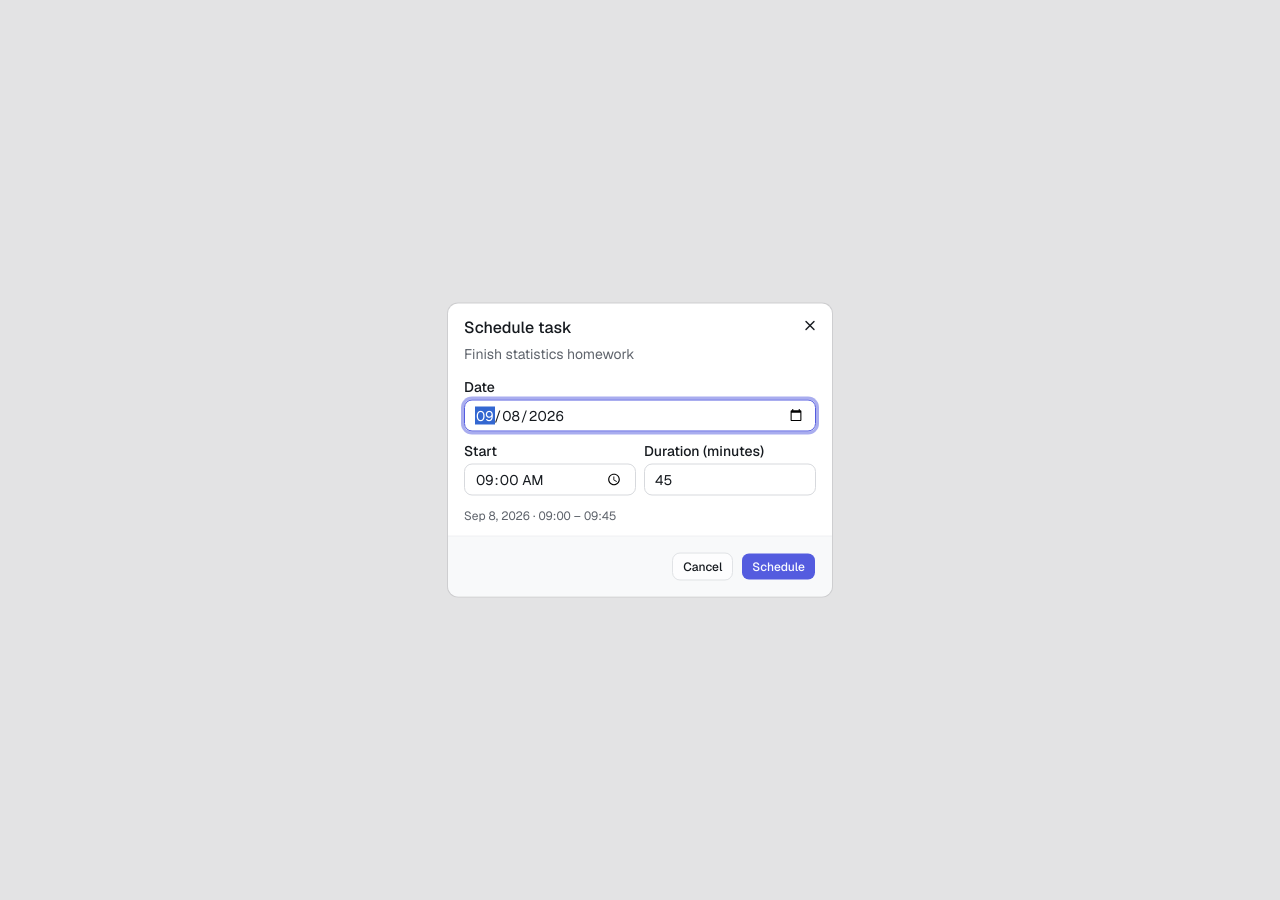
Scenario: ScheduleTaskDialog › refuses a block that would run past midnight, and says so
Step 1. Replace the text in the time field labelled "Start" with "23:30" → (550, 480), box [464,464,636,496]
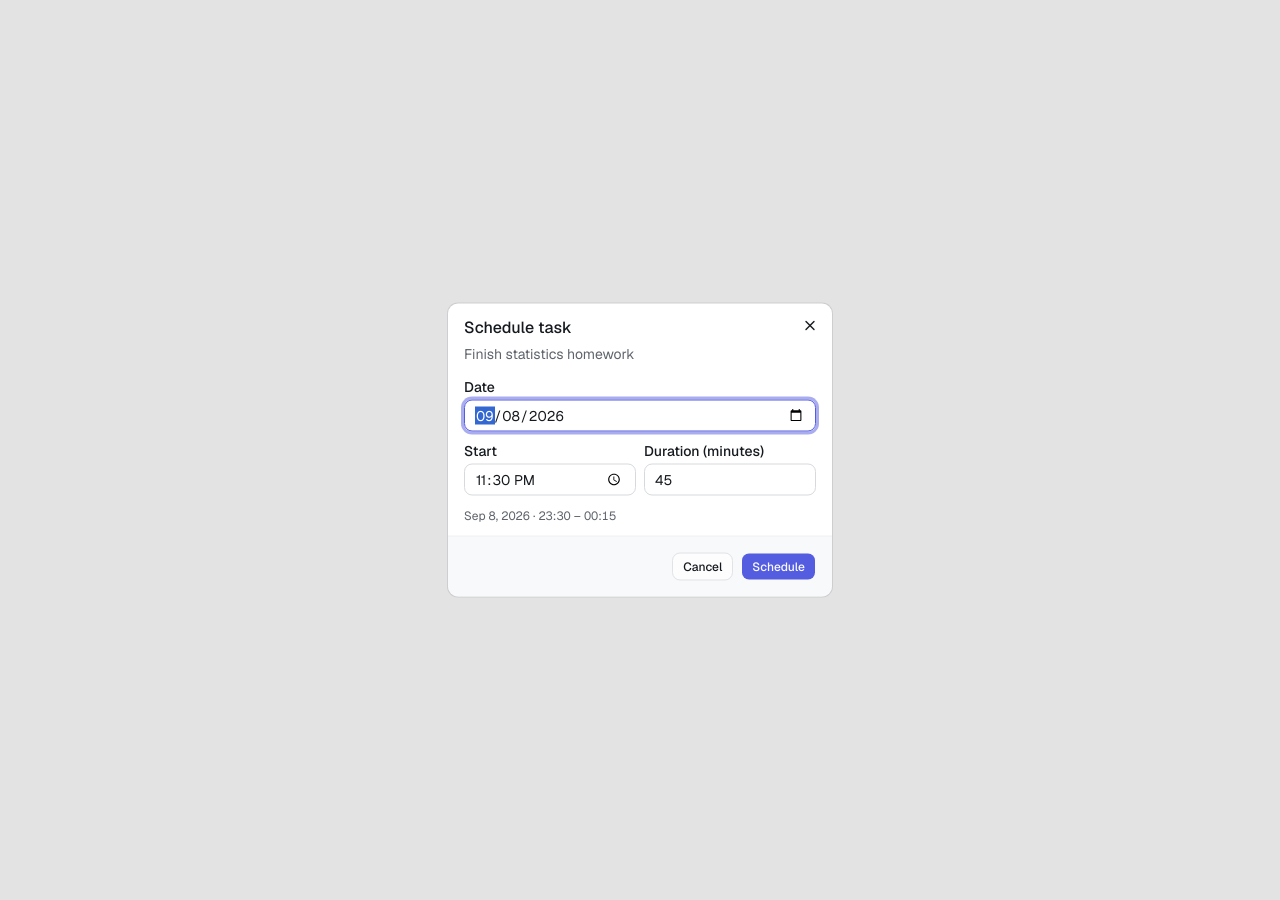
Step 2. Click the button "Schedule" → click(779, 566), box [741,552,816,580]
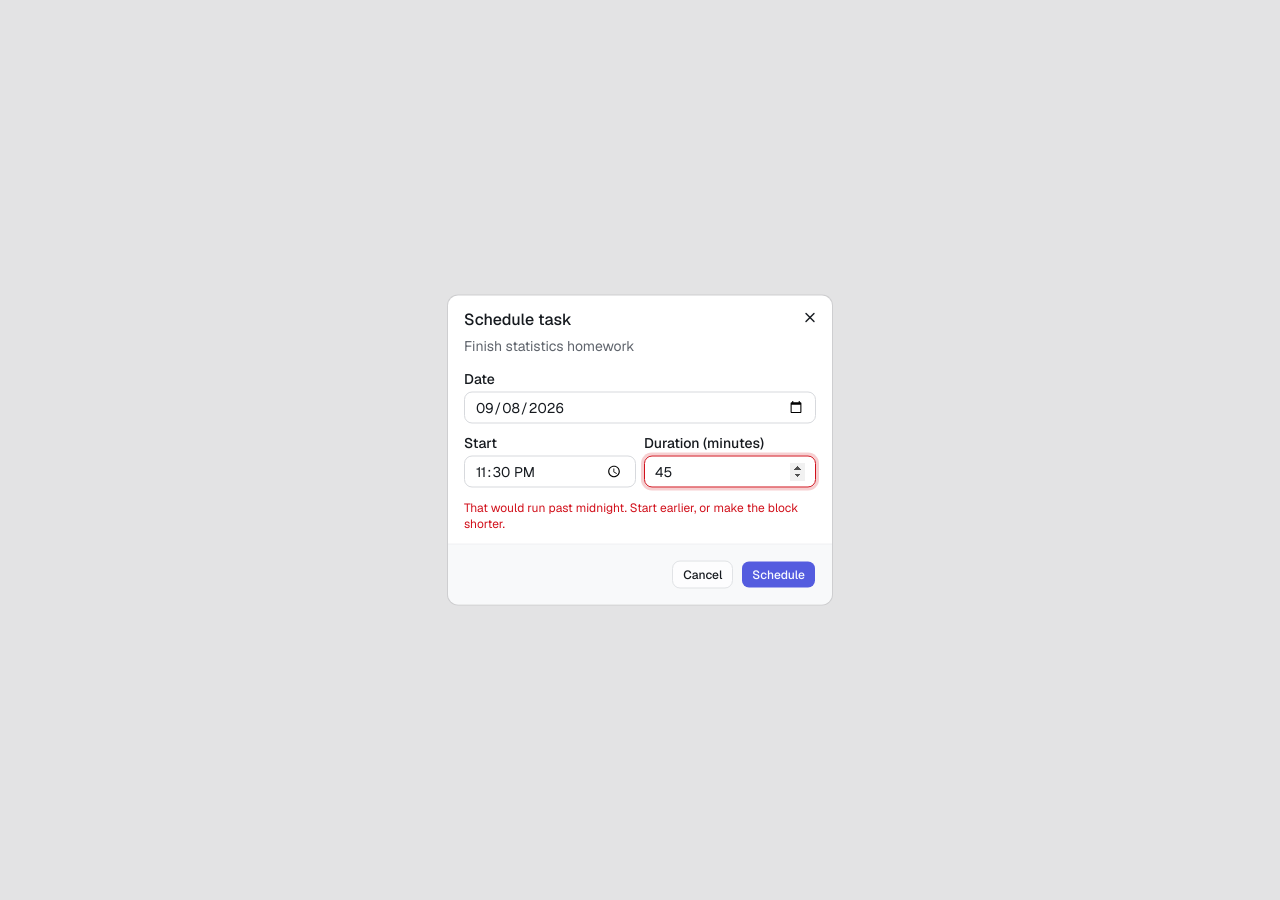
Now the text "run past midnight" is shown, box [464,500,798,532]
